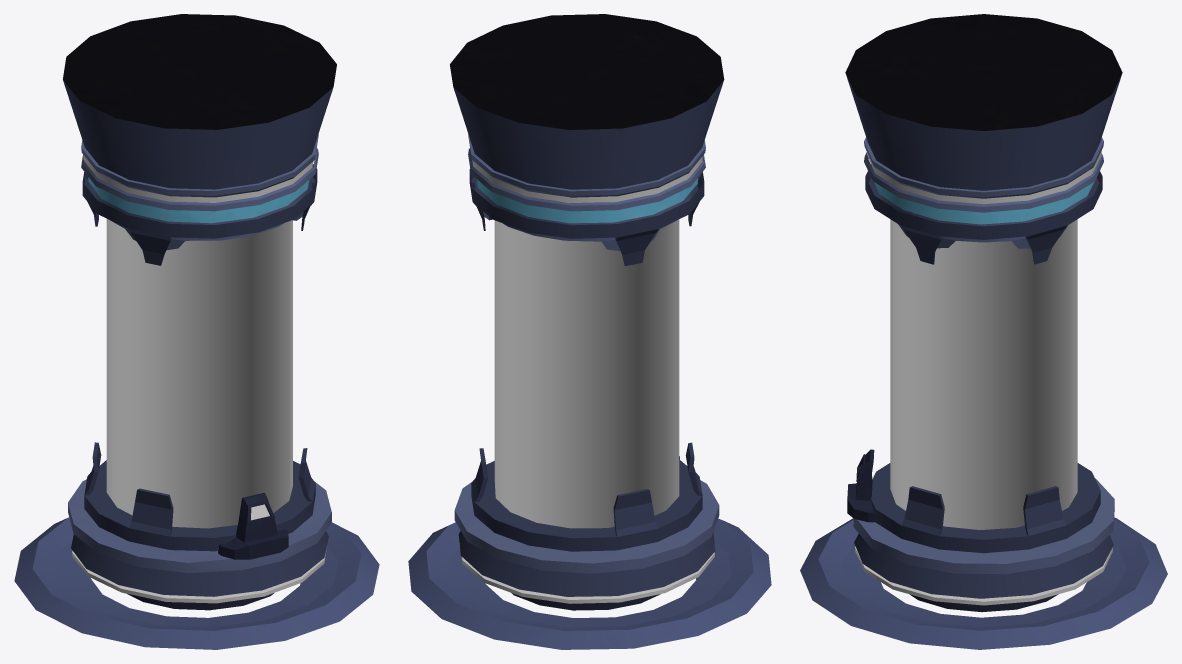
File: incubator.fbx
The picture shows the model from 3 angles, left to right: view 1: azimuth 30°, elevation 25°; view 2: azimuth 150°, elevation 25°; view 3: azimuth 270°, elevation 25°; orthographic projection.
Parts seen in each view (by area): view 1: polySurface2859, pCylinder1, polySurface2820, polySurface2832, polySurface2871, polySurface2829; view 2: polySurface2859, pCylinder1, polySurface2820, polySurface2832, polySurface2871, polySurface2829; view 3: polySurface2859, pCylinder1, polySurface2820, polySurface2832, polySurface2871, polySurface2829.
Boxes of the visible parts, <box> form: polySurface2859: <box>14,14,379,649</box>; pCylinder1: <box>106,219,292,528</box>; polySurface2820: <box>88,177,309,223</box>; polySurface2832: <box>72,547,326,603</box>; polySurface2871: <box>83,155,313,202</box>; polySurface2829: <box>127,593,273,610</box>; polySurface2859: <box>408,14,771,649</box>; pCylinder1: <box>494,219,679,528</box>; polySurface2820: <box>477,176,697,223</box>; polySurface2832: <box>459,542,714,603</box>; polySurface2871: <box>472,156,702,203</box>; polySurface2829: <box>511,593,660,610</box>; polySurface2859: <box>800,14,1167,649</box>; pCylinder1: <box>890,219,1077,529</box>; polySurface2820: <box>874,171,1096,224</box>; polySurface2832: <box>855,546,1112,605</box>; polySurface2871: <box>867,151,1101,204</box>; polySurface2829: <box>910,594,1057,612</box>.
Bounding box in the file's own units: 32.66 × 49.09 × 32.66.
